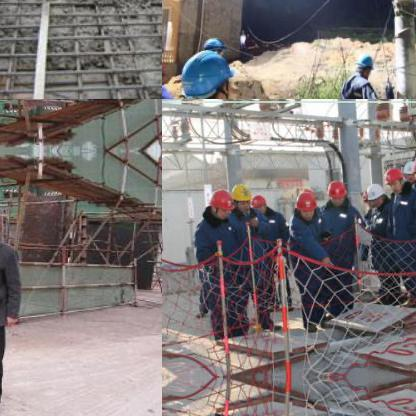Helmet: (184, 46, 233, 98), (206, 186, 232, 218), (228, 181, 250, 211), (324, 177, 346, 203), (354, 48, 374, 76), (295, 190, 315, 218), (365, 181, 387, 205), (204, 35, 226, 57), (383, 166, 403, 190), (249, 192, 265, 212), (402, 157, 415, 181), (410, 154, 415, 182)
